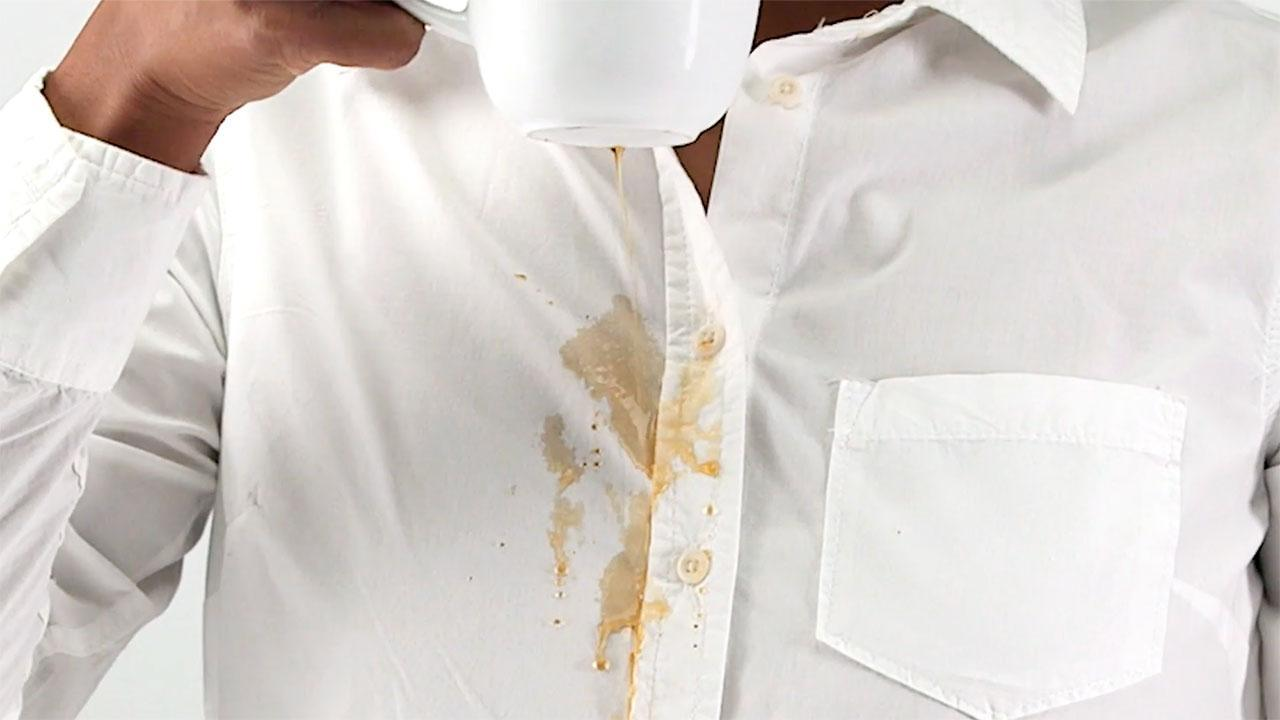gun: (536, 283, 735, 688)
